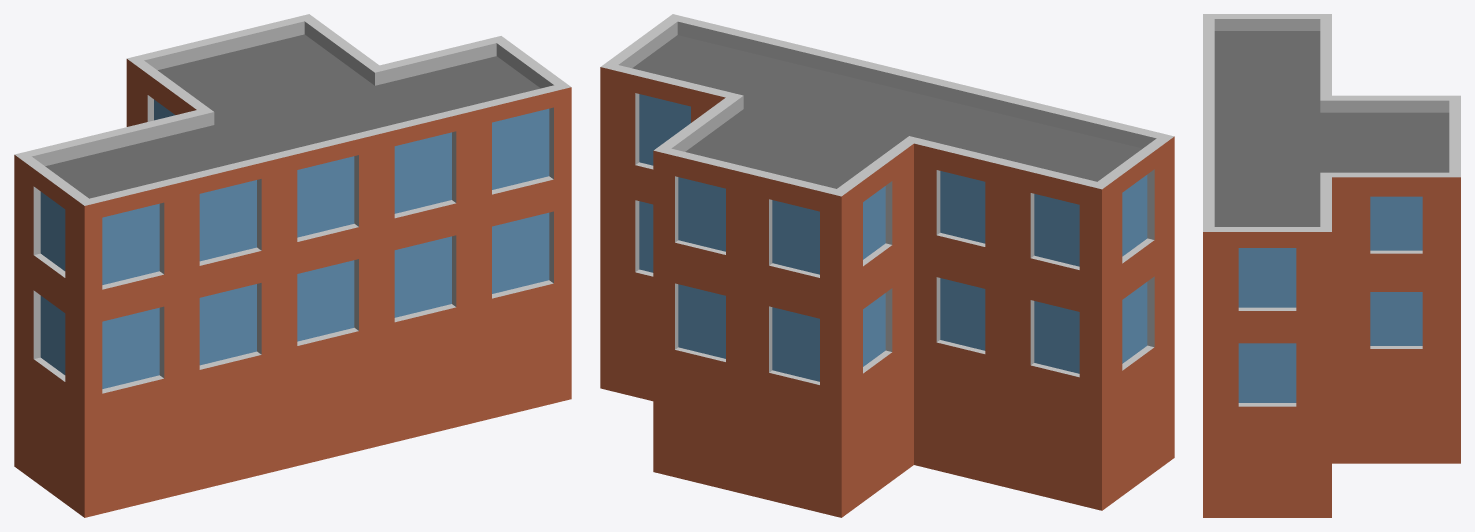
File: building4.fbx
3 views of the same model, side by side, from view 1: azimuth 30°, elevation 25°; view 2: azimuth 150°, elevation 25°; view 3: azimuth 270°, elevation 25° (orthographic). The views are drawn at different scales.
Parts seen in each view (by area): view 1: polySurface10; view 2: polySurface10; view 3: polySurface10.
Boxes of the visible parts, x1,y1,x2,y2 form: polySurface10: (14,14,571,517); polySurface10: (600,14,1174,517); polySurface10: (1203,14,1460,517).
Size of the model in its own units: 105 by 64.28 by 52.5.
